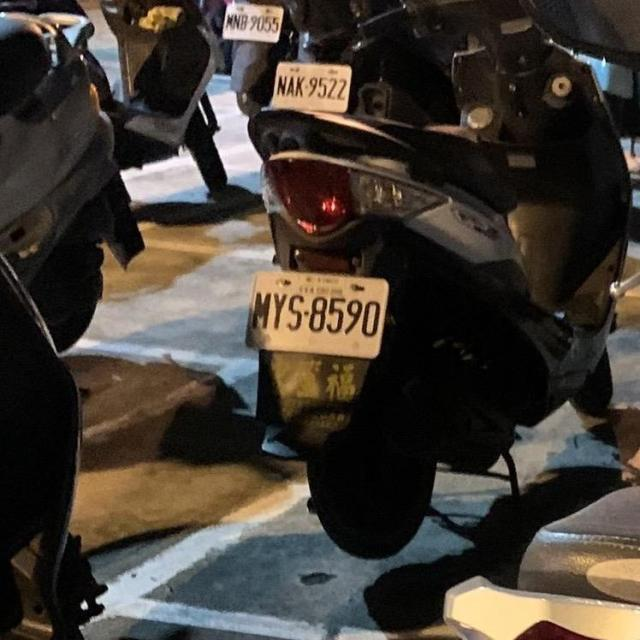W: (242, 253, 396, 367), (264, 47, 361, 117), (218, 0, 294, 49)
